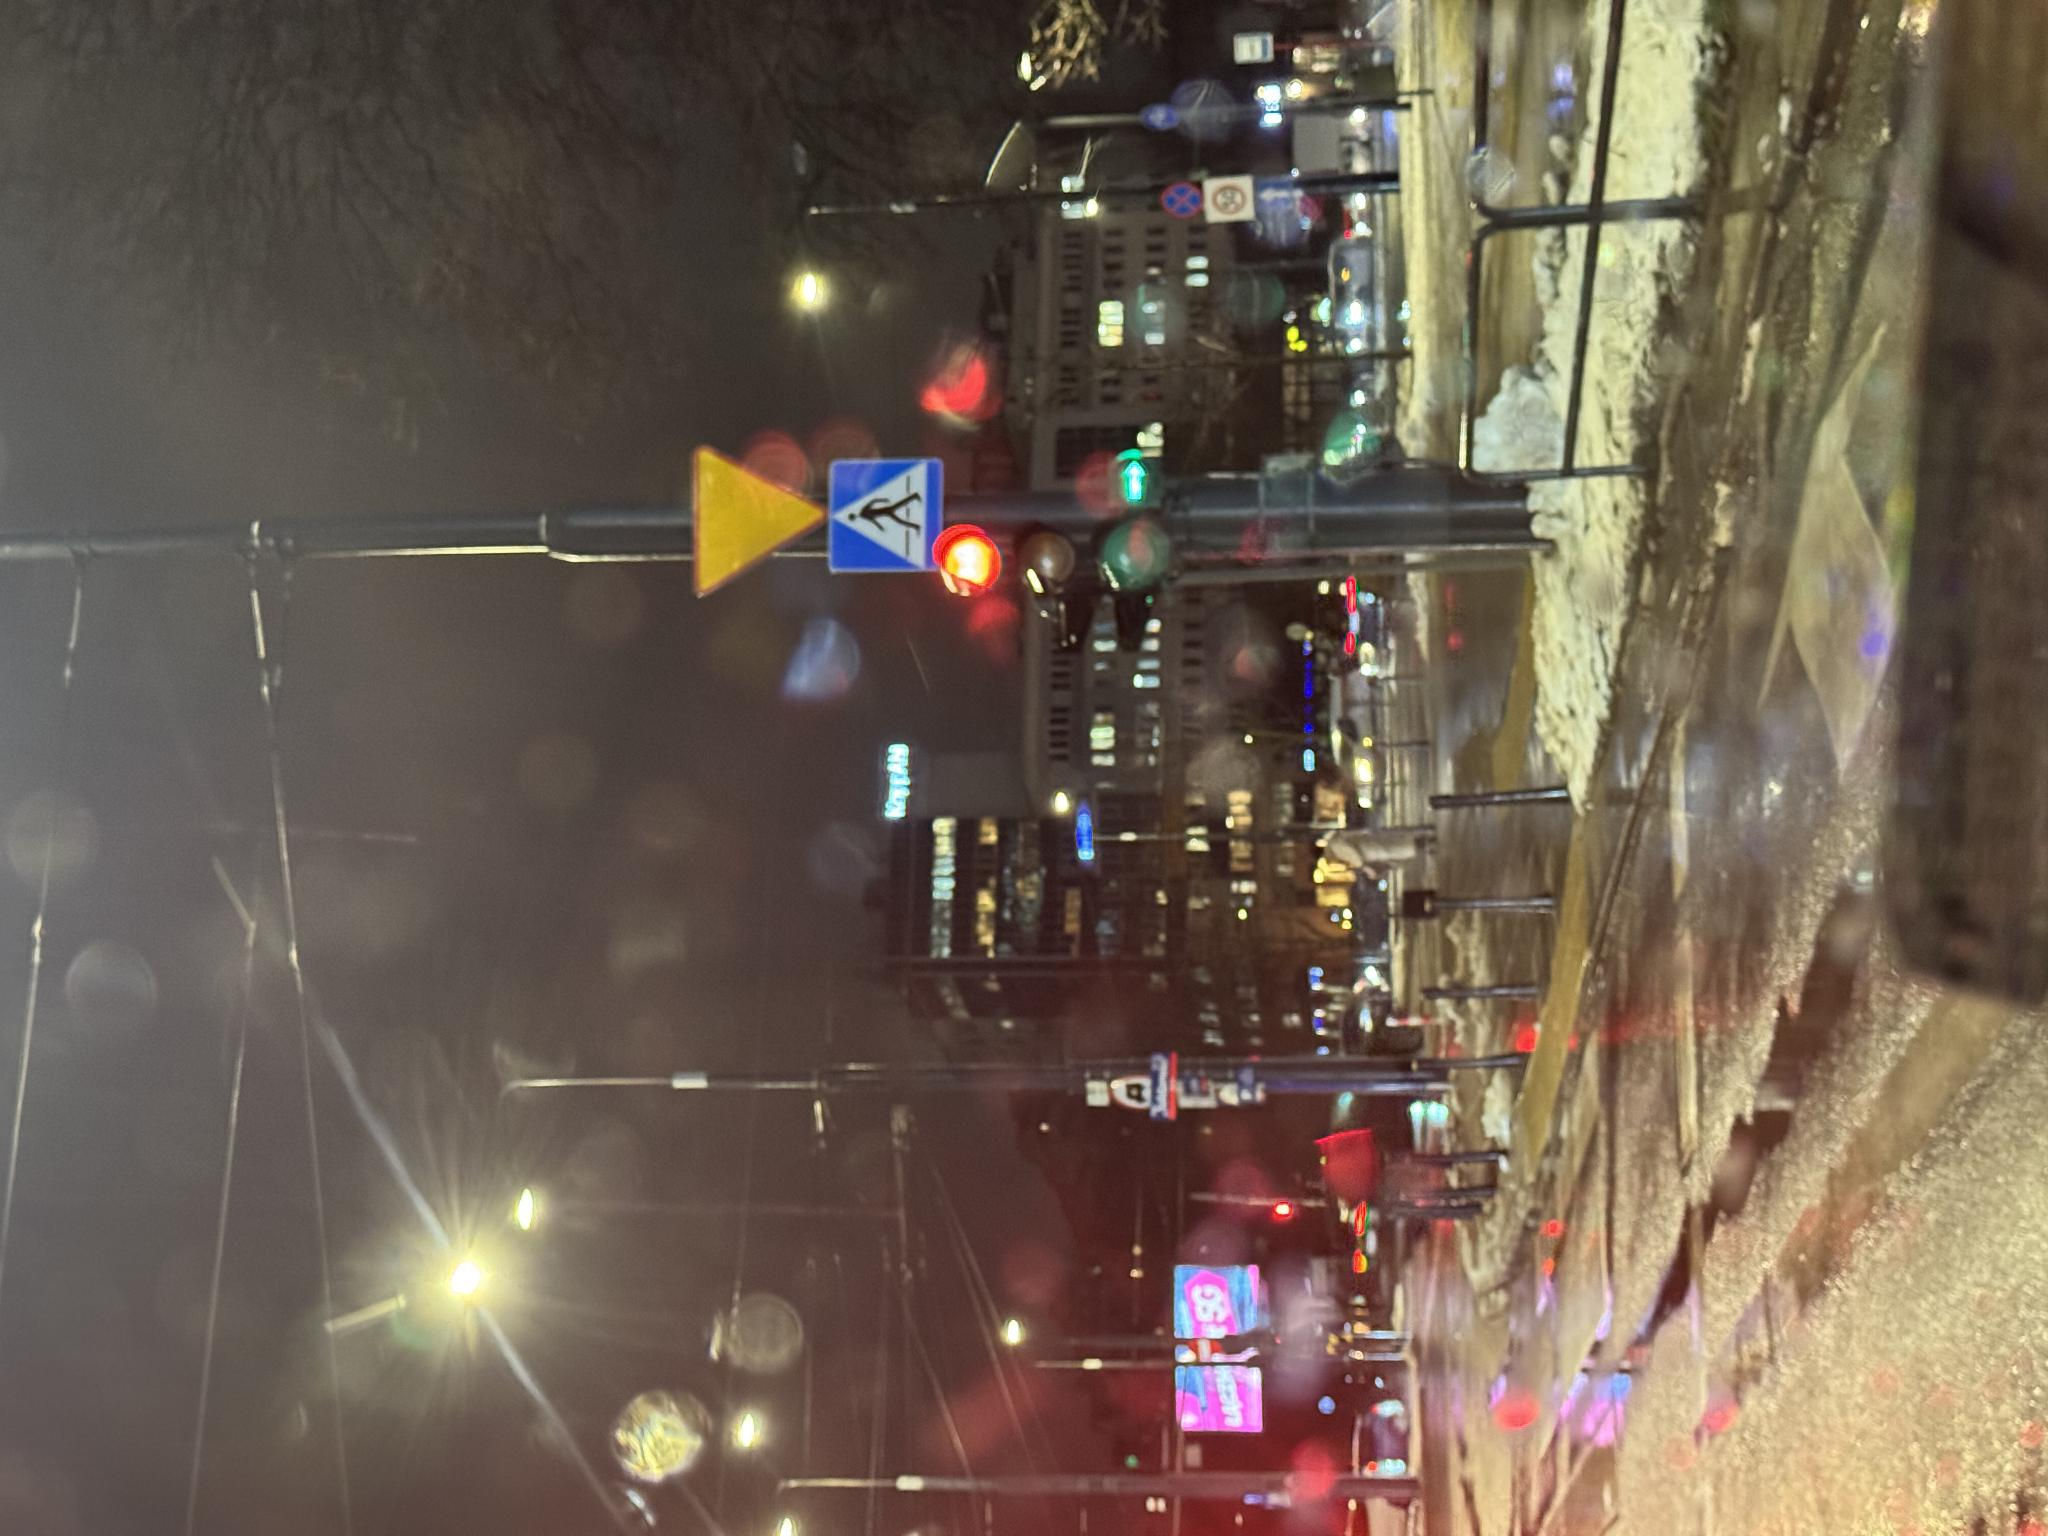information: (964, 826, 1080, 940)
prohibitory: (1314, 1206, 1358, 1252), (1318, 1160, 1354, 1204)
warning: (938, 688, 1092, 830)
